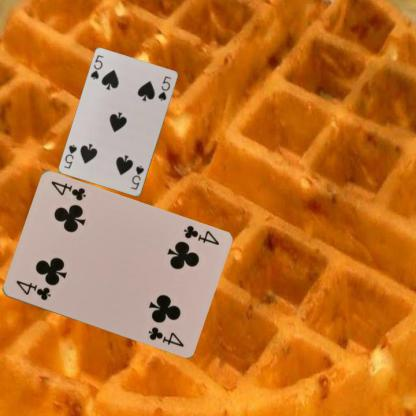4c: (180, 222, 220, 247), (13, 278, 52, 302)
5s: (128, 163, 145, 191), (88, 52, 104, 81)
